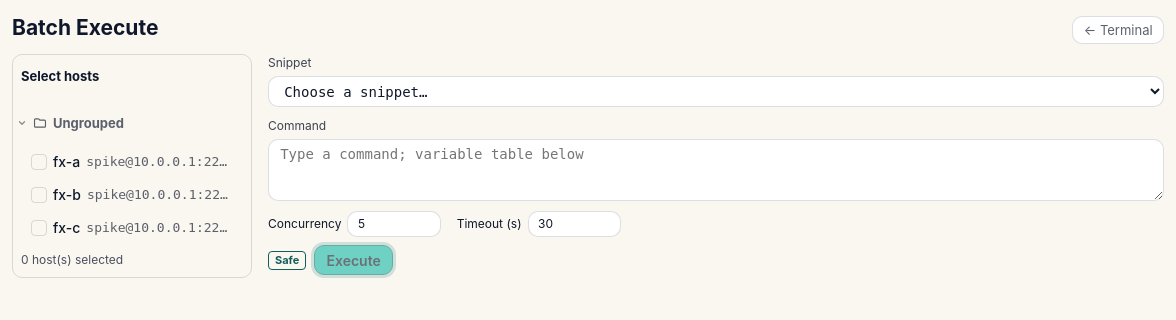
BatchPanel › 主机多选切换 + 已选计数 + 未连接徽标
Expected: the text with test id "batch-selected-count" shows "0", x1=21 y1=252 x2=123 y2=267
Click the checkbox labelled "fx-a spike@10.0.0.1:2222" at {"x": 132, "y": 162}, box x1=21 y1=146 x2=243 y2=177
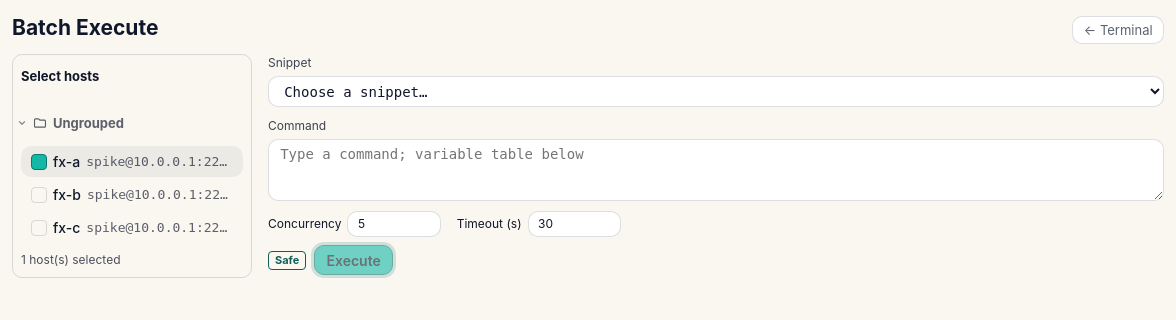
Click the checkbox labelled "fx-c spike@10.0.0.1:2222" at {"x": 132, "y": 228}, box x1=21 y1=212 x2=243 y2=243
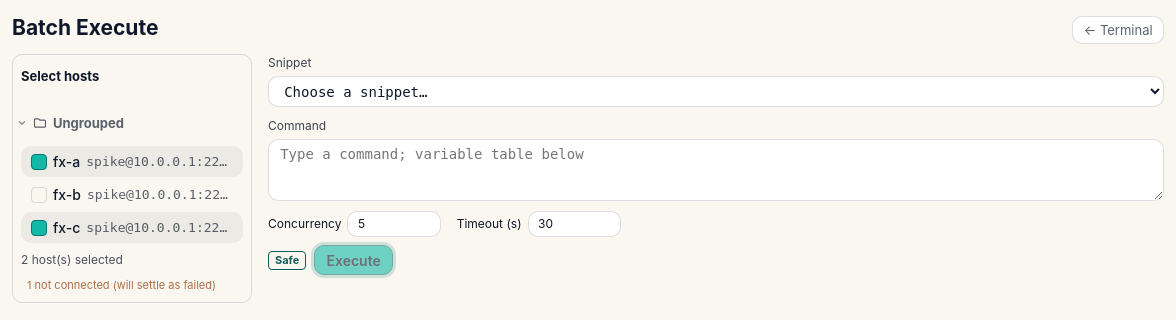
Now the text with test id "batch-selected-count" shows "2", box x1=21 y1=252 x2=123 y2=267
Now the text with test id "batch-nc-hint" shows "1", box x1=27 y1=278 x2=216 y2=292
Click the checkbox labelled "fx-c spike@10.0.0.1:2222" at {"x": 132, "y": 228}, box x1=21 y1=212 x2=243 y2=243
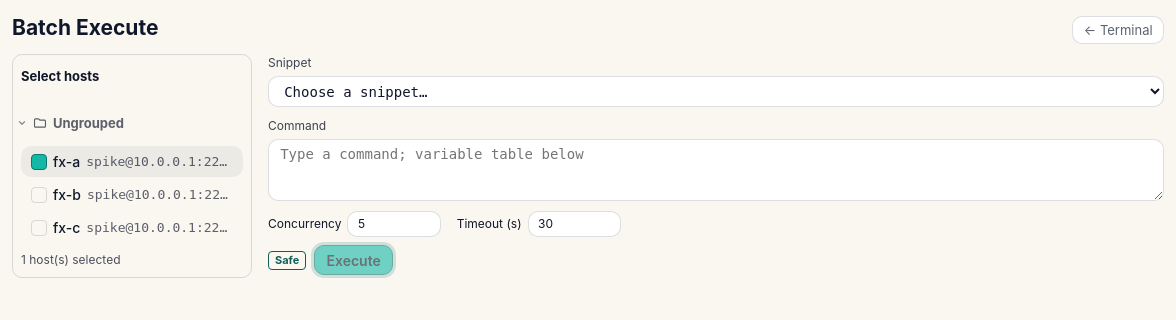
Now the text with test id "batch-nc-hint" is gone
Click the checkbox labelled "fx-c spike@10.0.0.1:2222" at {"x": 132, "y": 228}, box x1=21 y1=212 x2=243 y2=243
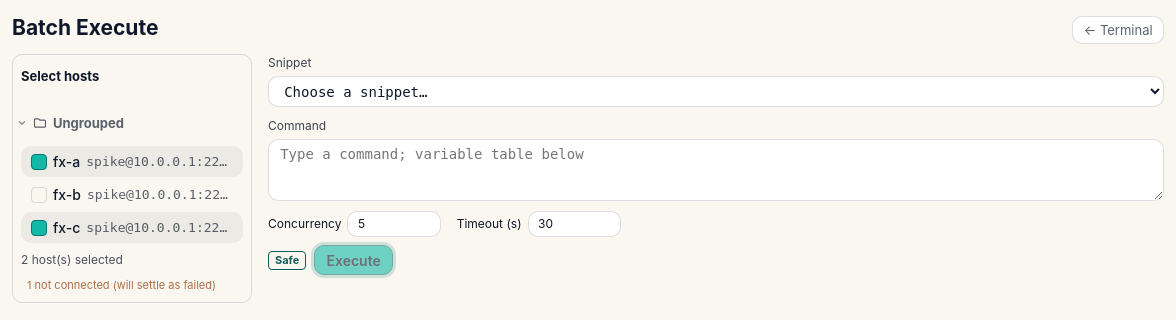
Now the text "1 not connected (will settle as failed)" is shown, box x1=27 y1=277 x2=243 y2=294
Click the checkbox labelled "fx-a spike@10.0.0.1:2222" at {"x": 132, "y": 162}, box x1=21 y1=146 x2=243 y2=177
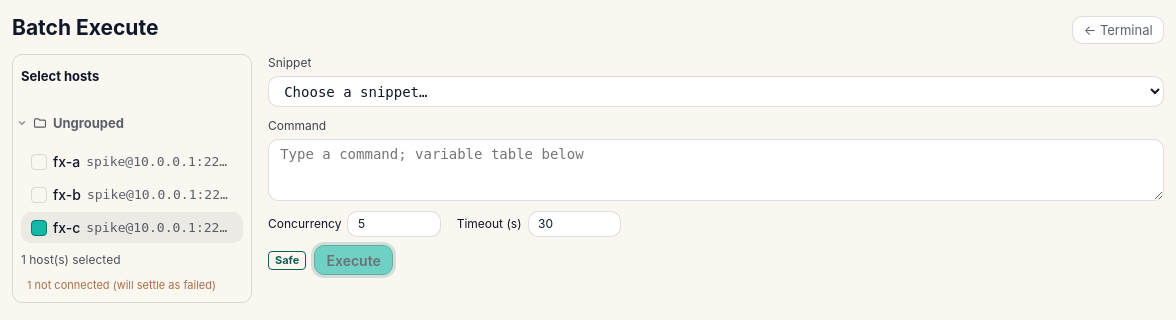
Now the text with test id "batch-selected-count" shows "1", box x1=21 y1=252 x2=120 y2=267
